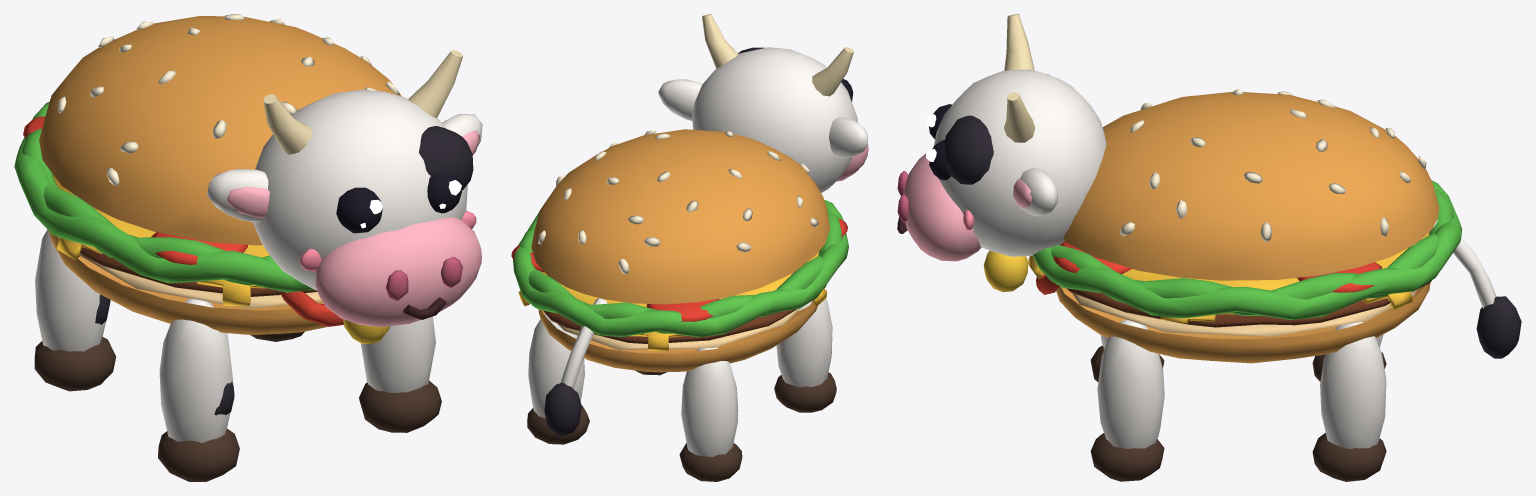
The model's file is pilot_ku_burger_lav.glb.
3 views of the same model, side by side, from view 1: azimuth 30°, elevation 25°; view 2: azimuth 150°, elevation 25°; view 3: azimuth 270°, elevation 25° (orthographic). The views are drawn at different scales.
Visible parts, largest first — view 1: kropp, hode, bein_vf, bein_vb, bein_hf; view 2: kropp, hode, bein_vb, bein_vf, bein_hb, hale; view 3: kropp, hode, bein_hf, bein_hb, hale.
Boxes of the visible parts, <box> form: kropp: <box>14,14,401,334</box>; hode: <box>207,50,482,343</box>; bein_vf: <box>158,298,239,481</box>; bein_vb: <box>34,229,116,391</box>; bein_hf: <box>359,316,441,432</box>; kropp: <box>511,129,848,372</box>; hode: <box>658,14,868,192</box>; bein_vb: <box>679,347,742,481</box>; bein_vf: <box>774,299,836,412</box>; bein_hb: <box>527,313,589,444</box>; hale: <box>544,298,607,436</box>; kropp: <box>1027,89,1462,363</box>; hode: <box>897,14,1106,294</box>; bein_hf: <box>1090,319,1164,481</box>; bein_hb: <box>1312,321,1386,481</box>; hale: <box>1428,220,1521,358</box>.
Bounding box in the file's own units: 1.02 × 1.13 × 1.69.
